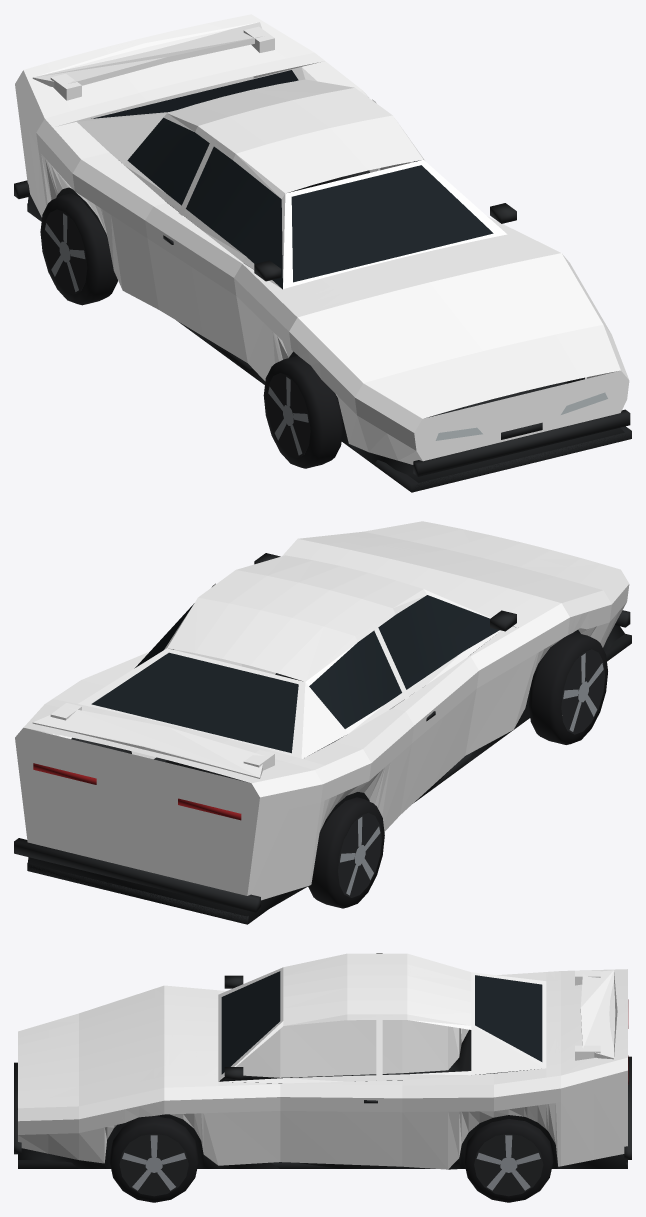
Rendered from rauhe_roca.glb.
3 renders of one model, top to bottom at view 1: azimuth 30°, elevation 25°; view 2: azimuth 150°, elevation 25°; view 3: azimuth 270°, elevation 25°, orthographic. The views are drawn at different scales.
Visible parts, largest first — view 1: Body_Paint, Body_Details, Mount_FrontLeft_Wheel_Details, Mount_RearLeft_Wheel_Details; view 2: Body_Paint, Body_Details, Mount_FrontLeft_Wheel_Details, Mount_RearLeft_Wheel_Details; view 3: Body_Paint, Body_Details, Mount_FrontRight_Wheel_Details, Mount_RearRight_Wheel_Details.
Part boxes in pixels (<box>): Body_Paint: <box>15,14,629,464</box>; Body_Details: <box>14,70,631,492</box>; Mount_FrontLeft_Wheel_Details: <box>263,356,342,468</box>; Mount_RearLeft_Wheel_Details: <box>40,193,117,305</box>; Body_Paint: <box>15,521,629,900</box>; Body_Details: <box>14,553,631,924</box>; Mount_FrontLeft_Wheel_Details: <box>529,632,607,744</box>; Mount_RearLeft_Wheel_Details: <box>308,797,384,908</box>; Body_Paint: <box>18,953,627,1169</box>; Body_Details: <box>14,971,631,1169</box>; Mount_FrontRight_Wheel_Details: <box>109,1116,198,1202</box>; Mount_RearRight_Wheel_Details: <box>464,1119,553,1202</box>.
Bounding box in the file's own units: 1.94 × 1.3 × 4.38.
2 materials, 1 textured.
